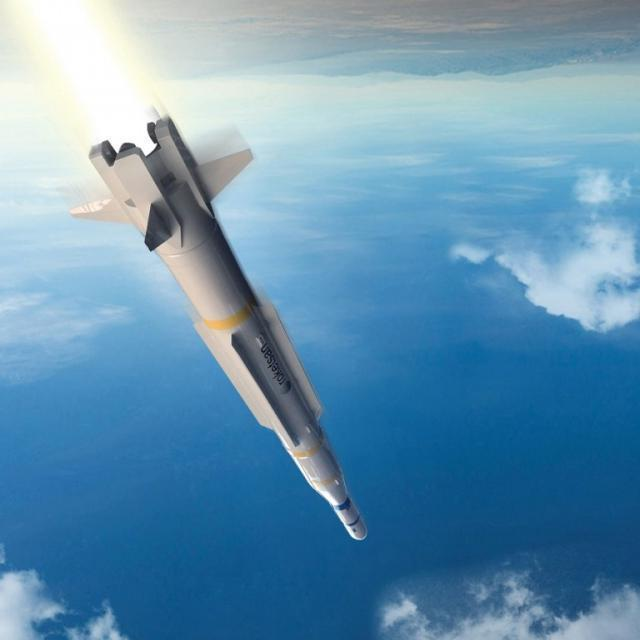missile: (83, 117, 374, 540), (110, 139, 346, 564)
